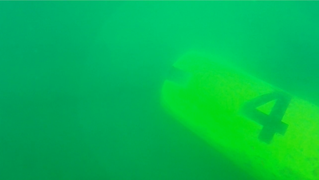4: (240, 89, 294, 146)
pipe: (158, 49, 319, 180)
